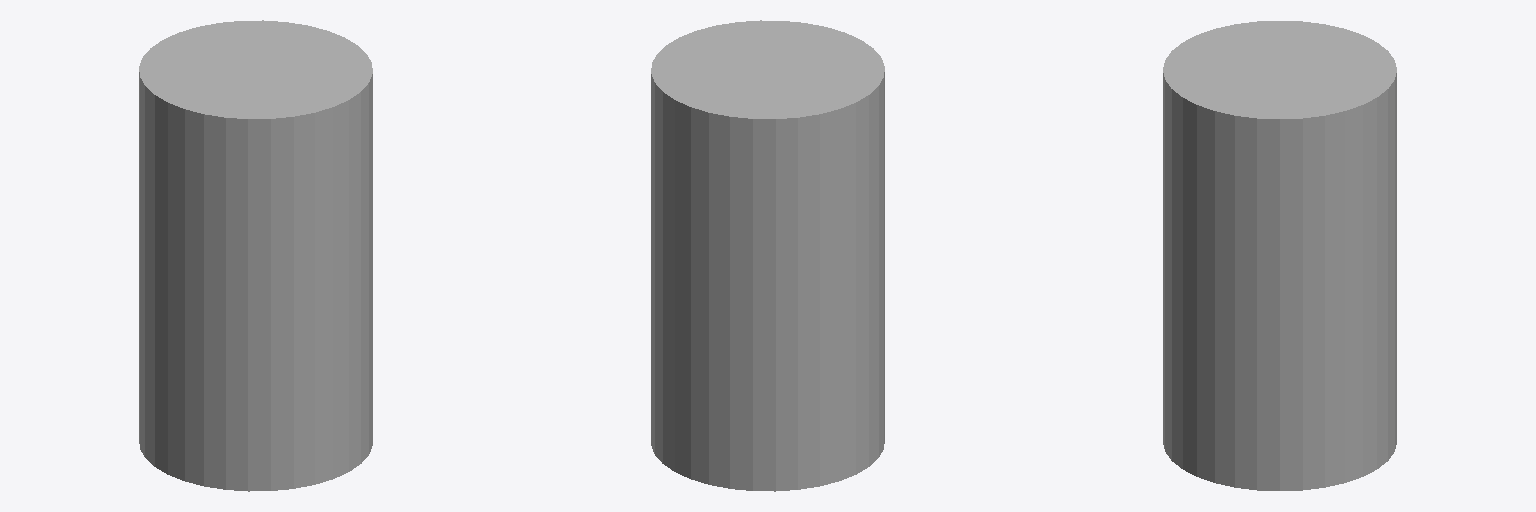
robot.urdf — root:
<robot name="root">
  <link name="link_001">
    <visual>
      <origin xyz="0 0 0" rpy="0 0 0"/>
      <geometry>
        <mesh filename="waterbottle_primitive.obj" scale="1.2500E+00 1.2500E+00 1.2500E+00"/>
      </geometry>
      <material name="">
        <color rgba="7.50E-01 7.50E-01 7.50E-01 1"/>
      </material>
    </visual>
    <collision>
      <origin xyz="0 0 0" rpy="0 0 0"/>
      <geometry>
        <mesh filename="waterbottle_primitive.obj" scale="1.2500E+00 1.2500E+00 1.2500E+00"/>
      </geometry>
    </collision>
    <inertial>
      <mass value="0.16"/> <!-- 质量：0.1kg -->
    </inertial>
  </link>
</robot>

--- Render facts (derived) ---
The picture shows the robot from 3 angles, left to right: view 1: azimuth 30°, elevation 25°; view 2: azimuth 150°, elevation 25°; view 3: azimuth 270°, elevation 25°; orthographic projection.
Model root with 1 links and 0 joints (none), rooted at link_001, posed every joint at zero.
Visible links, largest first — view 1: link_001; view 2: link_001; view 3: link_001.
Boxes of the visible links, box(x1,y1,x2,y2) form: link_001: box(139, 20, 372, 491); link_001: box(651, 20, 884, 491); link_001: box(1163, 21, 1396, 490).
Bounding box of the posed robot: 0.0752 × 0.0752 × 0.1317 m (x, y, z).
Meshes: 1 distinct files referenced, 1 mesh visuals loaded (1 OBJ).
